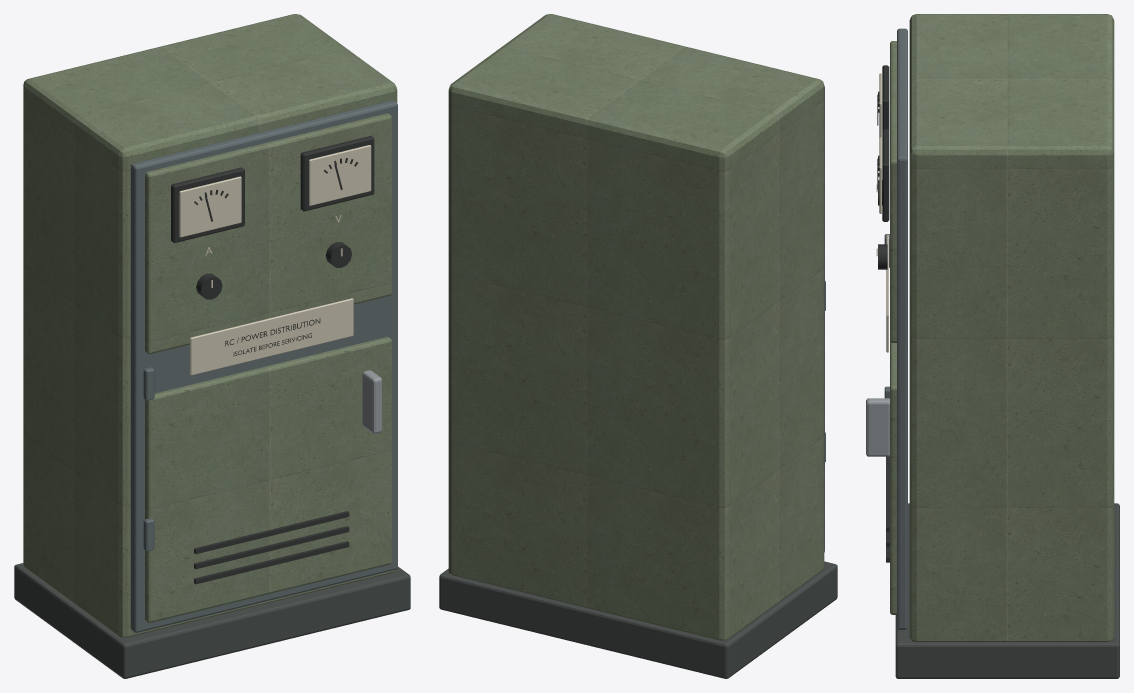
File: power_cabinet.glb
The picture shows the model from 3 angles, left to right: view 1: azimuth 30°, elevation 25°; view 2: azimuth 150°, elevation 25°; view 3: azimuth 270°, elevation 25°; orthographic projection.
Visible parts, largest first — view 1: Blue grey electrical cabinet, Painted steel frame and meter bezels, Plinth, Ivory analog instrument, Vent recesses and meter needles, Door handle; view 2: Blue grey electrical cabinet, Plinth; view 3: Blue grey electrical cabinet, Plinth, Painted steel frame and meter bezels, Vent recesses and meter needles, Door handle, Ivory analog instrument.
Part boxes in pixels (left/top/right/bottom): Blue grey electrical cabinet: left=23, top=14, right=397, bottom=637; Painted steel frame and meter bezels: left=130, top=100, right=397, bottom=632; Plinth: left=14, top=563, right=410, bottom=678; Ivory analog instrument: left=179, top=145, right=371, bottom=375; Vent recesses and meter needles: left=171, top=135, right=374, bottom=584; Door handle: left=362, top=370, right=381, bottom=433; Blue grey electrical cabinet: left=448, top=14, right=824, bottom=640; Plinth: left=439, top=561, right=837, bottom=678; Blue grey electrical cabinet: left=890, top=14, right=1114, bottom=641; Plinth: left=895, top=503, right=1119, bottom=678; Painted steel frame and meter bezels: left=884, top=28, right=907, bottom=629; Vent recesses and meter needles: left=877, top=65, right=889, bottom=562; Door handle: left=866, top=398, right=889, bottom=456; Ivory analog instrument: left=876, top=73, right=888, bottom=352.
Bounding box in the file's own units: 1.2 × 2.08 × 0.905.
Materials: 6 (1 with a texture image).
